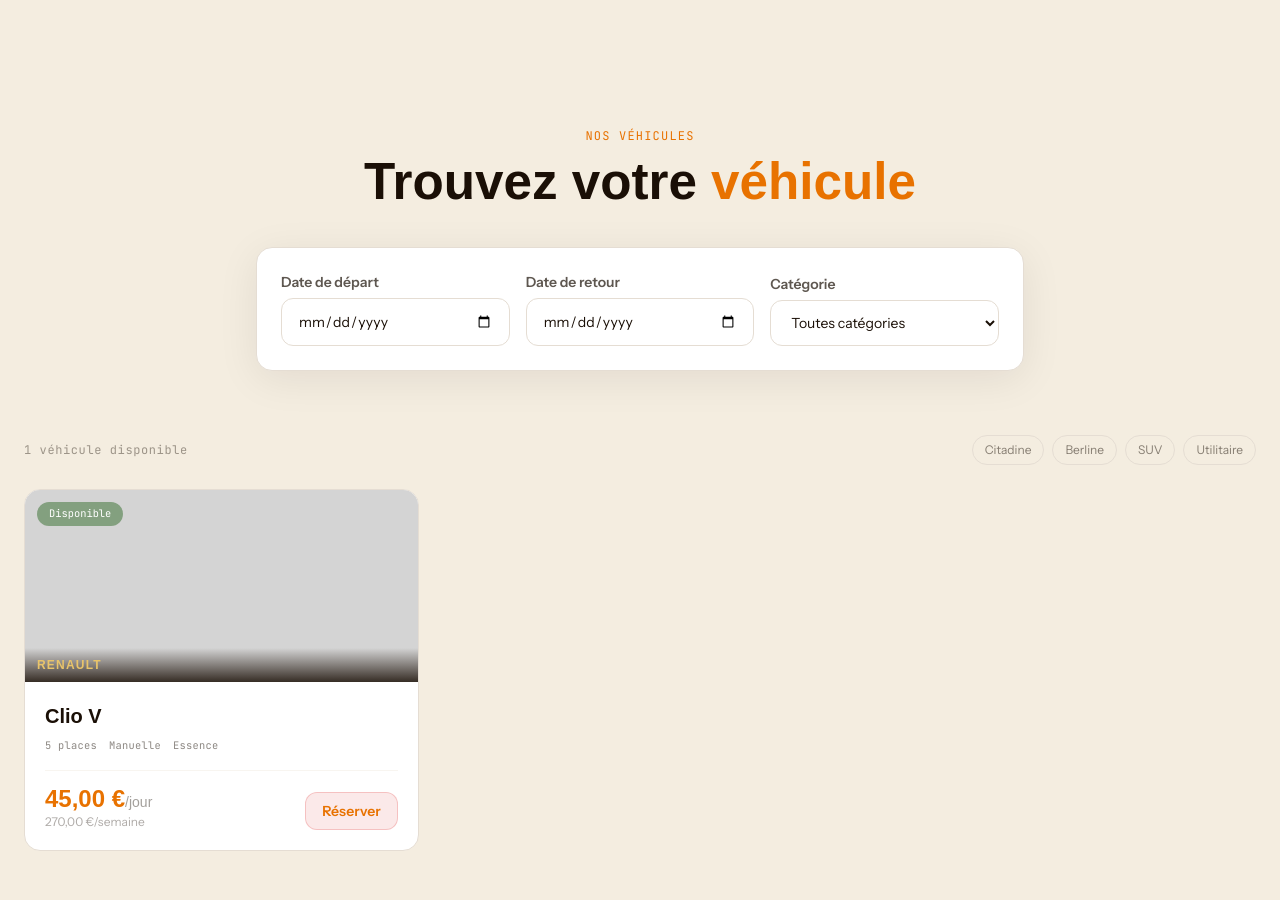
Test case: LocationClient — dispo par dates › dates choisies + véhicule occupé → badge « Indisponible à ces dates » + bouton désactivé
This screenshot has width=1280, height=900.
Type "2099-07-01" into the date field below "Date de départ" at (395, 322), box [281, 298, 510, 346]
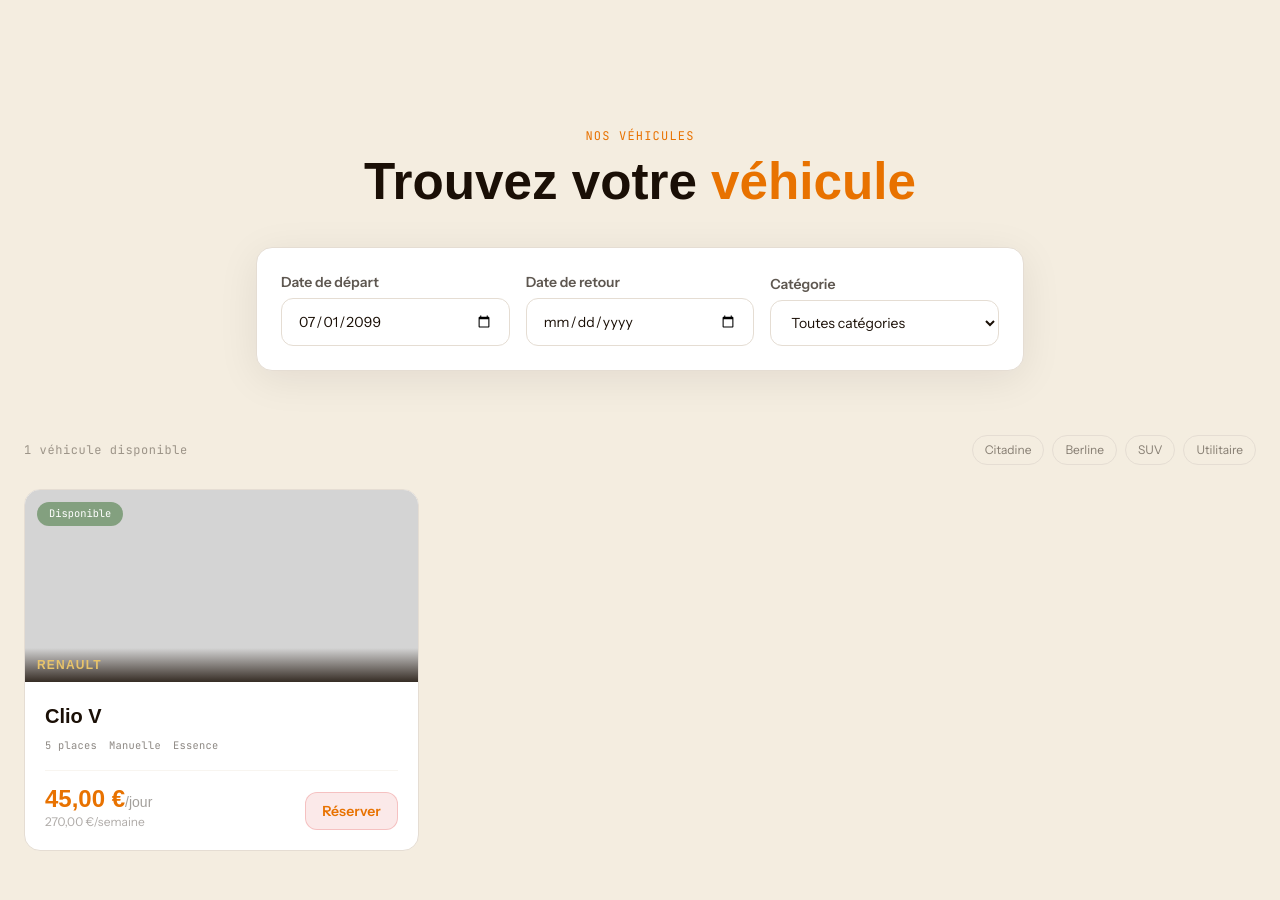
Type "2099-07-05" into the date field below "Date de retour" at (640, 322), box [526, 298, 754, 346]
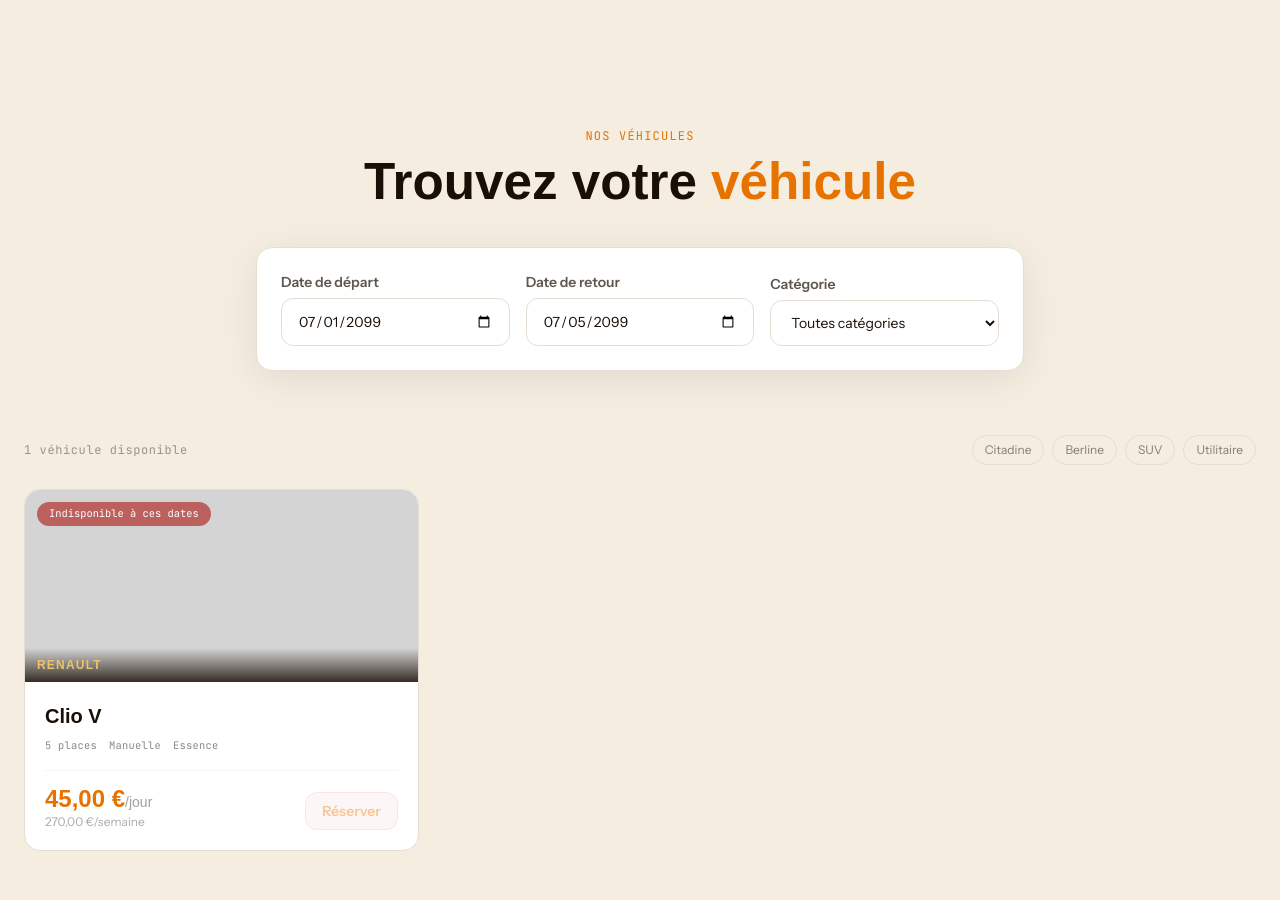
Result: the text "Indisponible à ces dates" is shown at [37, 502, 211, 526]
Result: the button "Réserver" is disabled at [305, 792, 398, 830]
